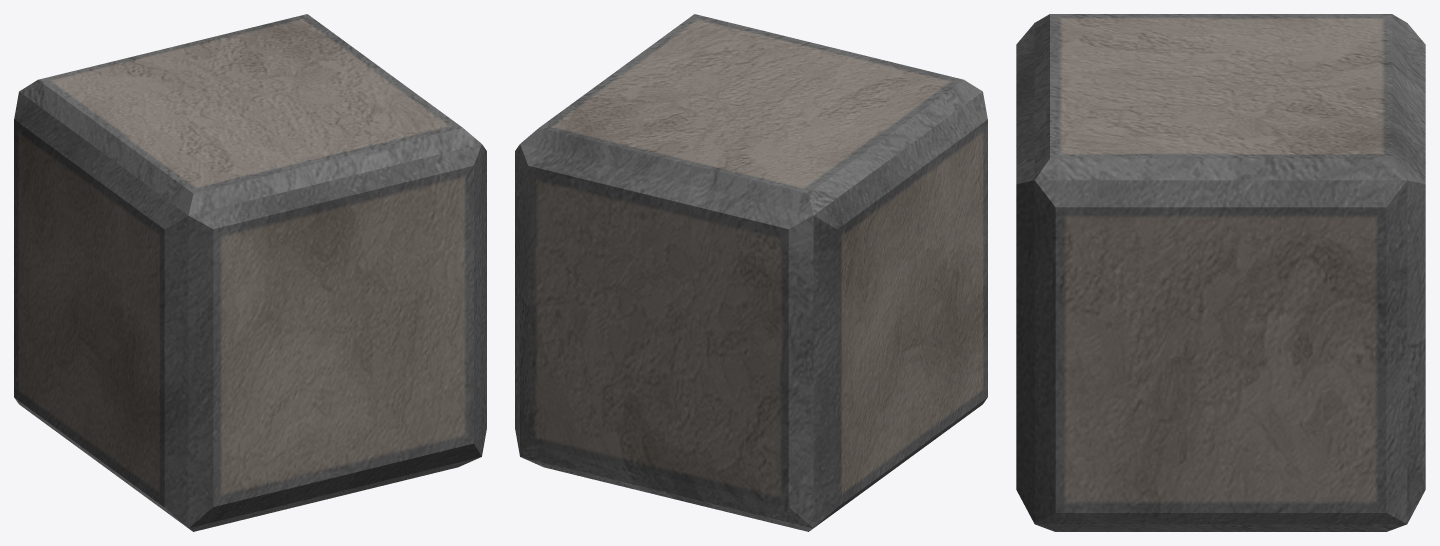
The picture shows the model from 3 angles, left to right: view 1: azimuth 30°, elevation 25°; view 2: azimuth 150°, elevation 25°; view 3: azimuth 270°, elevation 25°; orthographic projection. The views are drawn at different scales.
Visible parts, largest first — view 1: Box027; view 2: Box027; view 3: Box027.
Boxes of the visible parts, x1,y1,x2,y2 form: Box027: (14,14,486,531); Box027: (515,14,987,531); Box027: (1016,14,1425,531).
Size of the model in its own units: 21.62 by 21.84 by 21.62.
